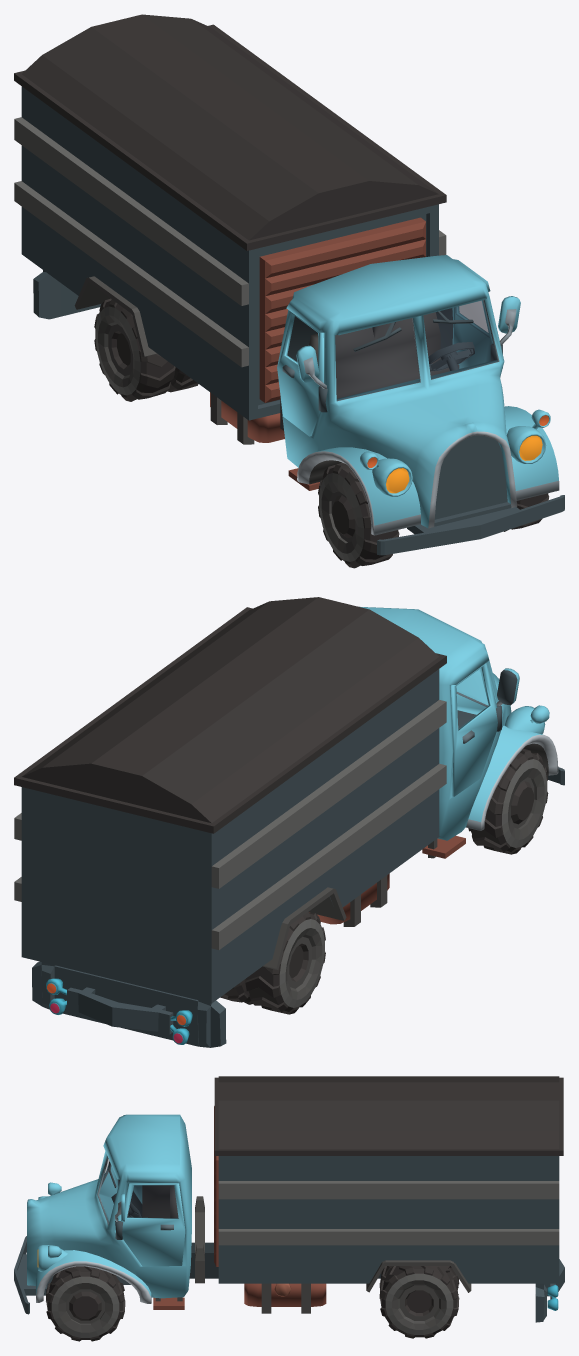
File: truck_03.glb
The picture shows the model from 3 angles, top to bottom: view 1: azimuth 30°, elevation 25°; view 2: azimuth 150°, elevation 25°; view 3: azimuth 270°, elevation 25°; orthographic projection. The views are drawn at different scales.
Visible parts, largest first — view 1: Truck_Trailer3.001, Truck_body.003, Truck_Engine.003, Truck_Wheel_Back.003, Truck_Wheel_Front.right.003, Truck_Door.right.003, Truck_Door.left.003, TruckModule_OilTank.003, Truck_Bumper.003, Truck_WheelCover.003, Truck_Steering.003; view 2: Truck_Trailer3.001, Truck_body.003, Truck_Bumper.003, Truck_Wheel_Back.003, Truck_Wheel_Front.right.003, Truck_Door.right.003, Truck_WheelCover.003, TruckModule_OilTank.003; view 3: Truck_Trailer3.001, Truck_body.003, Truck_Wheel_Back.003, Truck_Wheel_Front.left.003, Truck_Door.left.003, TruckModule_OilTank.003, Truck_Chassy_Short.003, Truck_Bumper.003, Truck_Engine.003, Truck_WheelCover.003.
Part boxes in pixels (<box>): Truck_Trailer3.001: <box>14,14,446,420</box>; Truck_body.003: <box>280,255,559,535</box>; Truck_Engine.003: <box>377,435,564,555</box>; Truck_Wheel_Back.003: <box>94,298,198,401</box>; Truck_Wheel_Front.right.003: <box>318,462,399,568</box>; Truck_Door.right.003: <box>277,310,323,436</box>; Truck_Door.left.003: <box>452,300,493,368</box>; TruckModule_OilTank.003: <box>210,392,284,444</box>; Truck_Bumper.003: <box>33,270,100,319</box>; Truck_WheelCover.003: <box>74,276,157,357</box>; Truck_Steering.003: <box>428,342,474,371</box>; Truck_Trailer3.001: <box>14,597,446,1003</box>; Truck_body.003: <box>359,606,558,858</box>; Truck_Bumper.003: <box>32,961,226,1047</box>; Truck_Wheel_Back.003: <box>220,912,325,1014</box>; Truck_Wheel_Front.right.003: <box>468,748,548,854</box>; Truck_Door.right.003: <box>450,663,497,796</box>; Truck_WheelCover.003: <box>263,887,346,969</box>; TruckModule_OilTank.003: <box>309,873,389,926</box>; Truck_Trailer3.001: <box>214,1076,563,1283</box>; Truck_body.003: <box>27,1114,191,1309</box>; Truck_Wheel_Back.003: <box>379,1266,459,1338</box>; Truck_Wheel_Front.left.003: <box>46,1266,125,1341</box>; Truck_Door.left.003: <box>121,1183,185,1266</box>; TruckModule_OilTank.003: <box>244,1283,326,1313</box>; Truck_Chassy_Short.003: <box>189,1196,381,1283</box>; Truck_Bumper.003: <box>535,1259,564,1322</box>; Truck_Engine.003: <box>14,1236,130,1314</box>; Truck_WheelCover.003: <box>366,1260,471,1292</box>.
Bounding box in the file's own units: 2.6 × 3.26 × 7.47.
4 materials, 3 textured.
